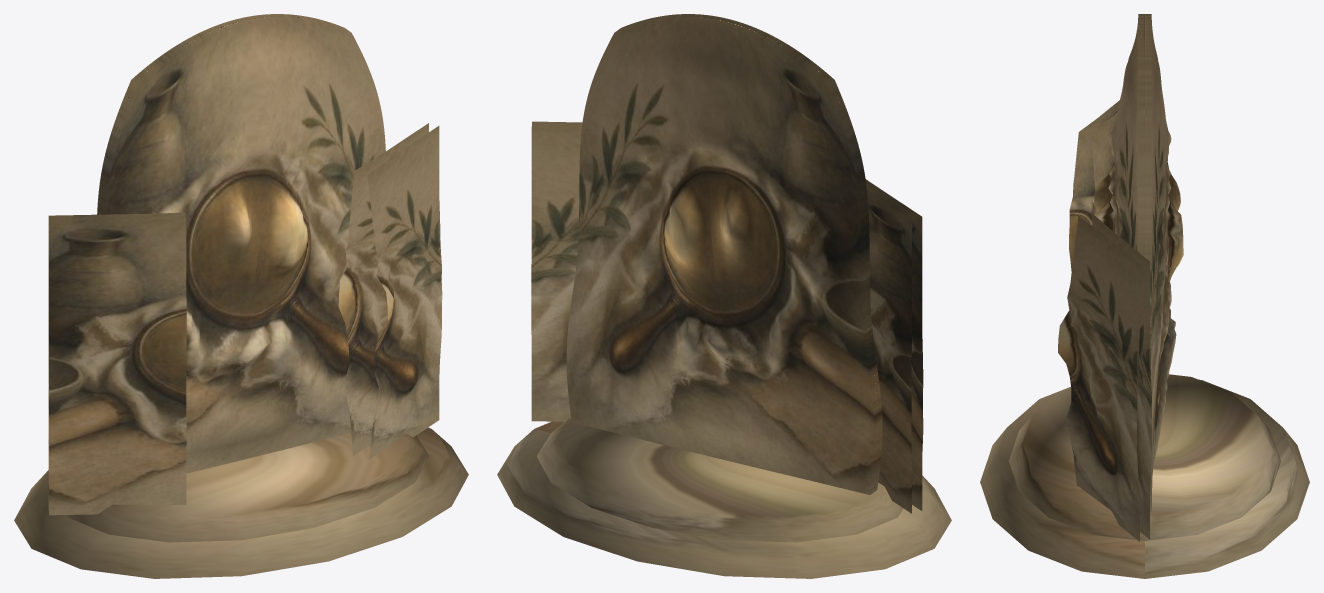
Rendered from treasure-in-clay-jars-18.glb.
The picture shows the model from 3 angles, left to right: view 1: azimuth 30°, elevation 25°; view 2: azimuth 150°, elevation 25°; view 3: azimuth 270°, elevation 25°; orthographic projection. The views are drawn at different scales.
Visible parts, largest first — view 1: PaintingSculptureMonument; view 2: PaintingSculptureMonument; view 3: PaintingSculptureMonument.
Boxes of the visible parts, box(x1,y1,x2,y2) form: PaintingSculptureMonument: box(14, 14, 468, 578); PaintingSculptureMonument: box(497, 14, 951, 578); PaintingSculptureMonument: box(980, 14, 1309, 578).
Bounding box in the file's own units: 2.76 × 2.99 × 1.99.
Materials: 1 (1 with a texture image).
